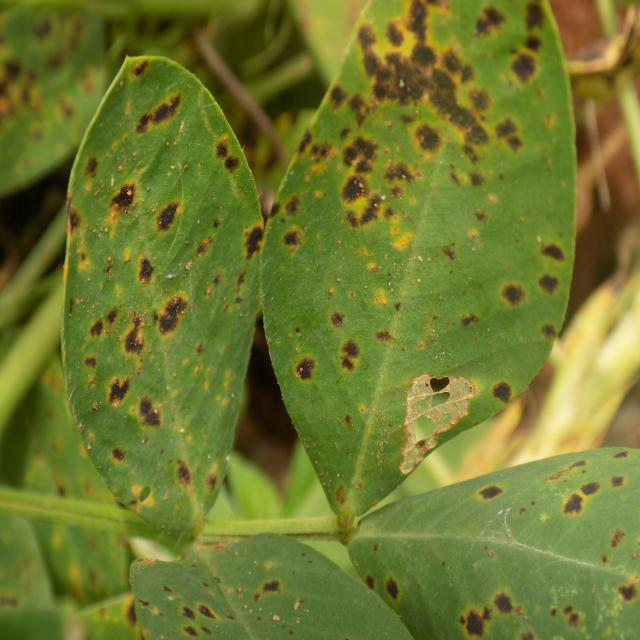Ground nut_tikka leaf spot: (259, 0, 571, 524), (61, 49, 260, 528)
